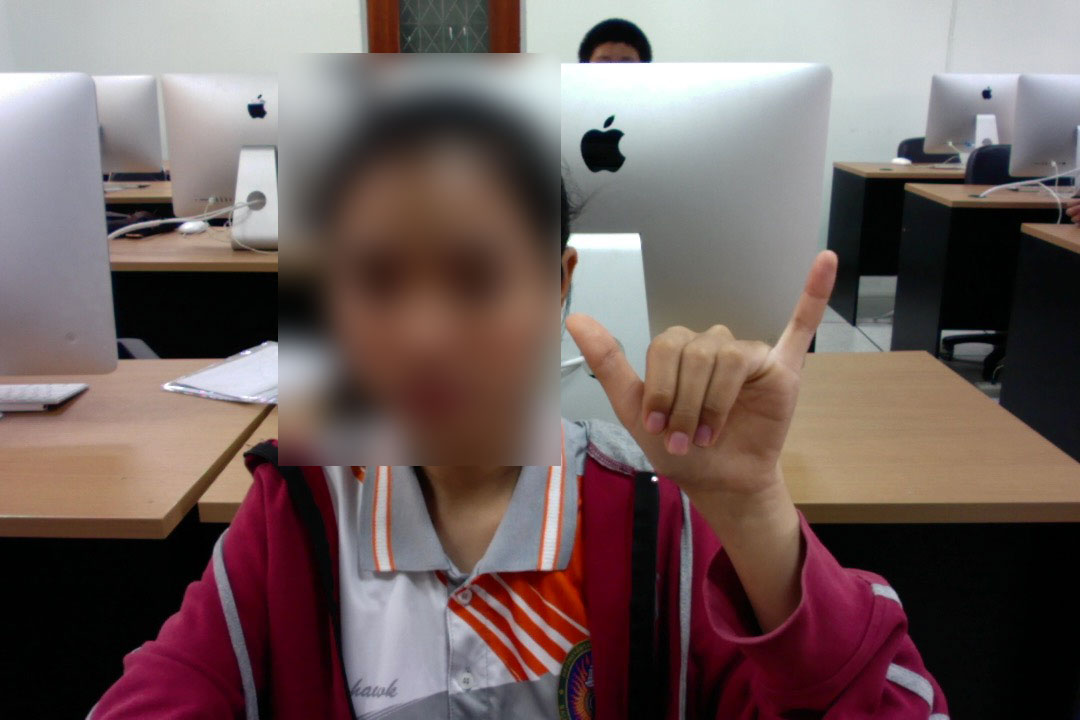yor: (558, 239, 843, 493)
